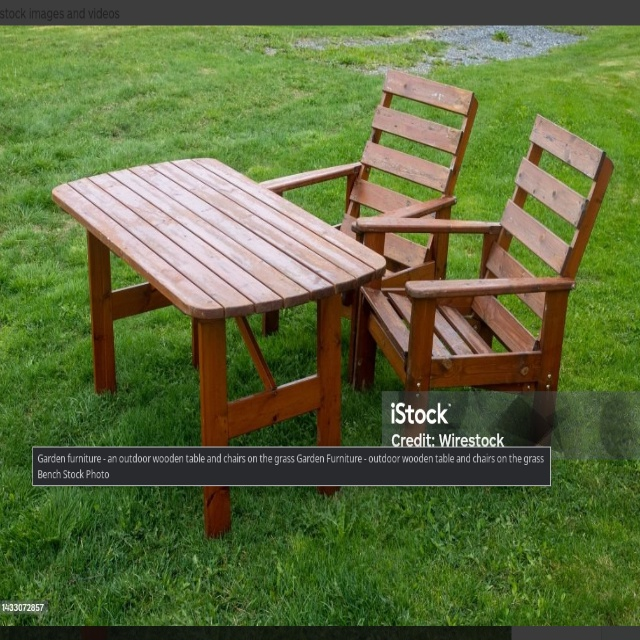obstacle: (50, 148, 388, 536), (347, 113, 616, 459), (269, 66, 475, 282)
